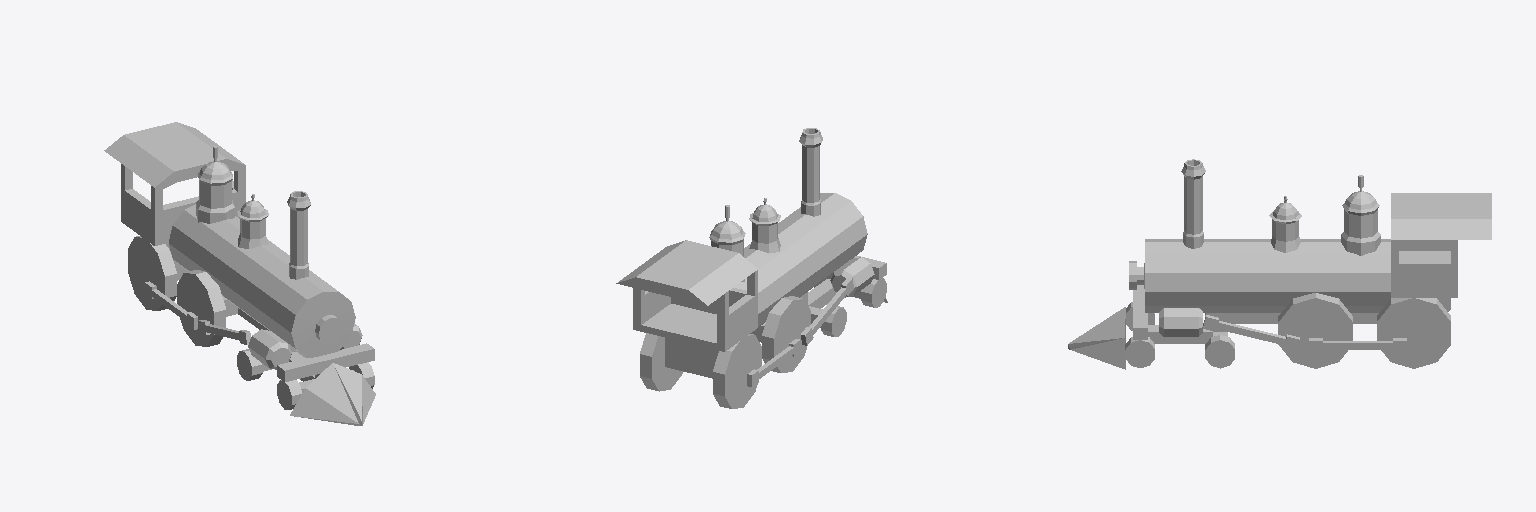
The model's file is TrainHeadYFixed.obj.
3 renders of one model, left to right at view 1: azimuth 30°, elevation 25°; view 2: azimuth 150°, elevation 25°; view 3: azimuth 270°, elevation 25°, orthographic.
Parts seen in each view (by area): view 1: Train_Head:pCylinder48; view 2: Train_Head:pCylinder48; view 3: Train_Head:pCylinder48.
Boxes of the visible parts, x1,y1,x2,y2 form: Train_Head:pCylinder48: [104, 122, 375, 425]; Train_Head:pCylinder48: [616, 128, 887, 408]; Train_Head:pCylinder48: [1068, 159, 1491, 369].
Bounding box in the file's own units: 7.24 × 13.21 × 27.33.